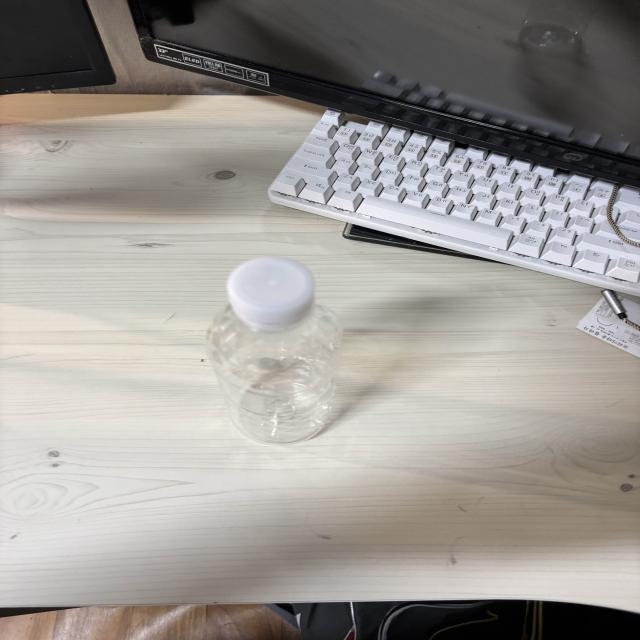Plastic: (180, 254, 376, 465)
